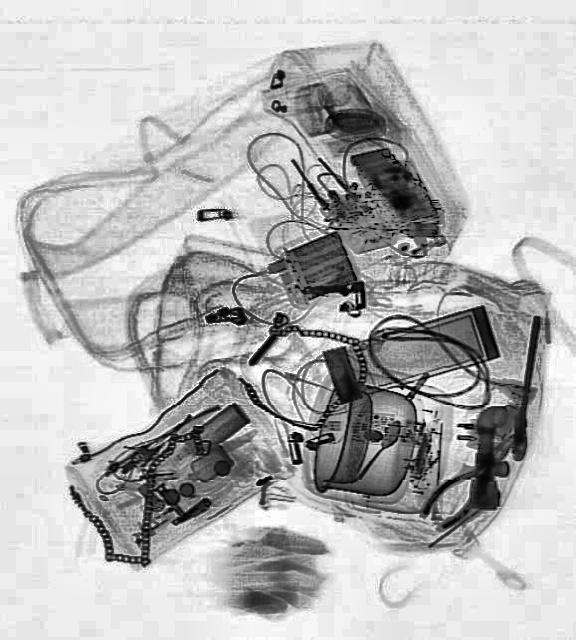Pliers: (414, 418, 532, 536)
